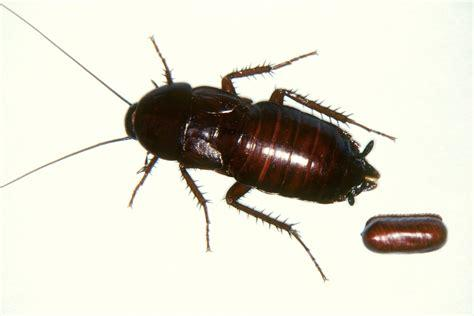cockroach: (112, 70, 386, 210)
